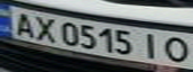0: (54, 18, 81, 47)
1: (93, 25, 115, 53)
5: (112, 27, 139, 56), (75, 22, 100, 51)
A: (6, 9, 39, 38)
I: (139, 30, 166, 61)
O: (160, 34, 193, 65)
X: (30, 14, 60, 43)
